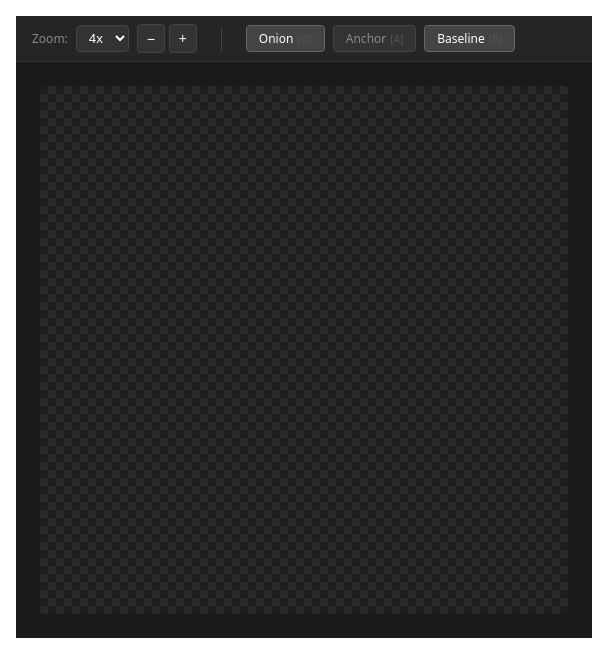
Test: Stage Component (Story 7.3) › Zoom Controls (AC #6) › should zoom out when - button clicked
expect the dropdown named "zoom level" shows "4x": met, box [76,25,129,52]
Click the button named "zoom out" at (151, 38), box [137,24,165,53]
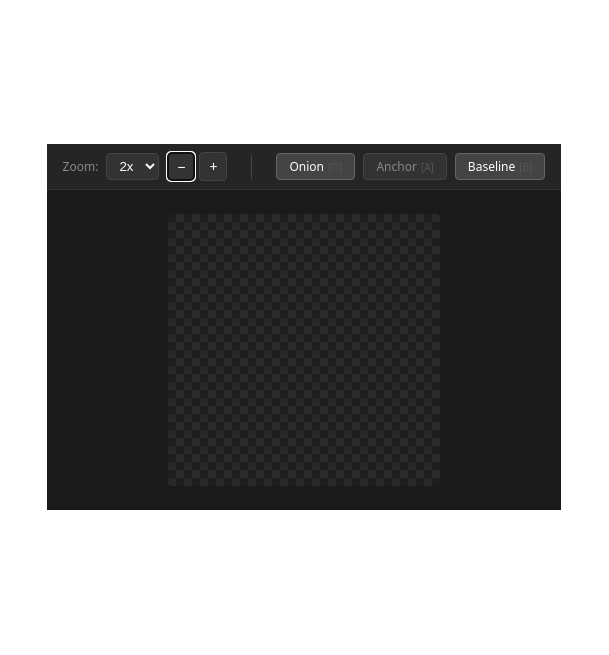
expect the dropdown named "zoom level" shows "2x": met, box [106,153,159,180]
